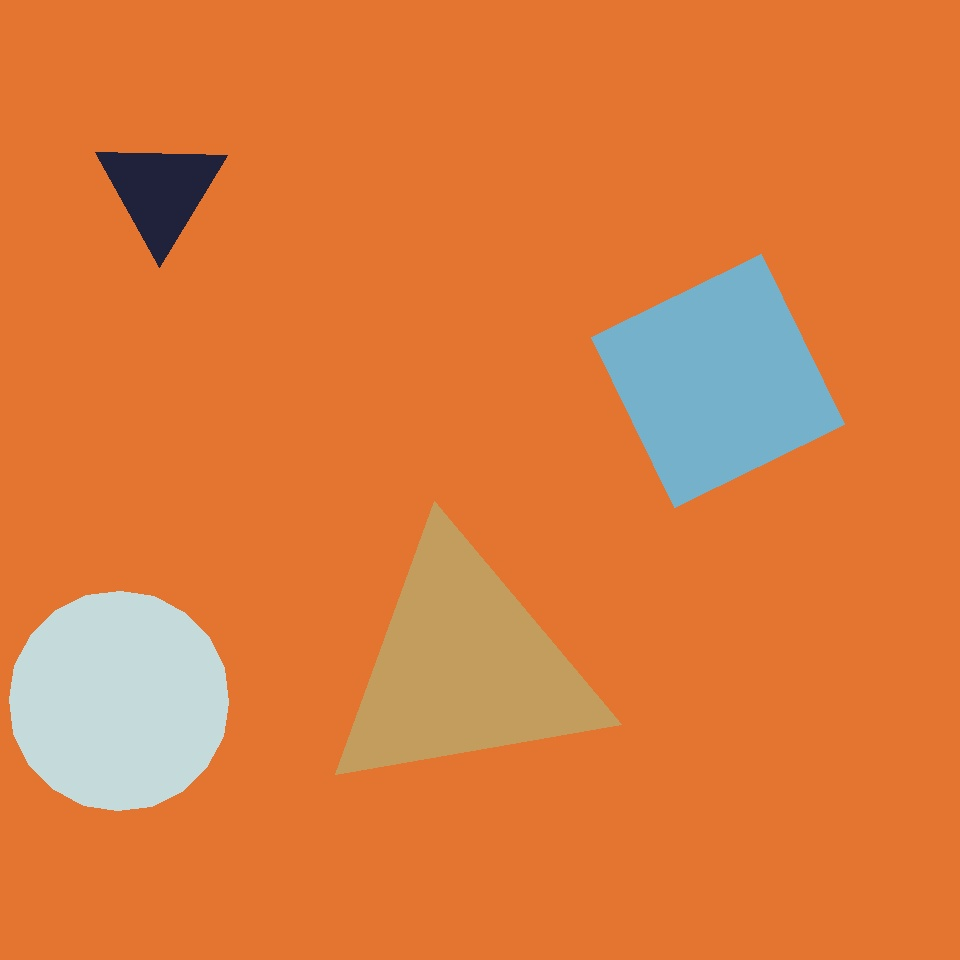circle: (321, 530, 607, 804), (95, 134, 227, 250)
square: (592, 254, 844, 507)
triangle: (10, 592, 228, 810)
